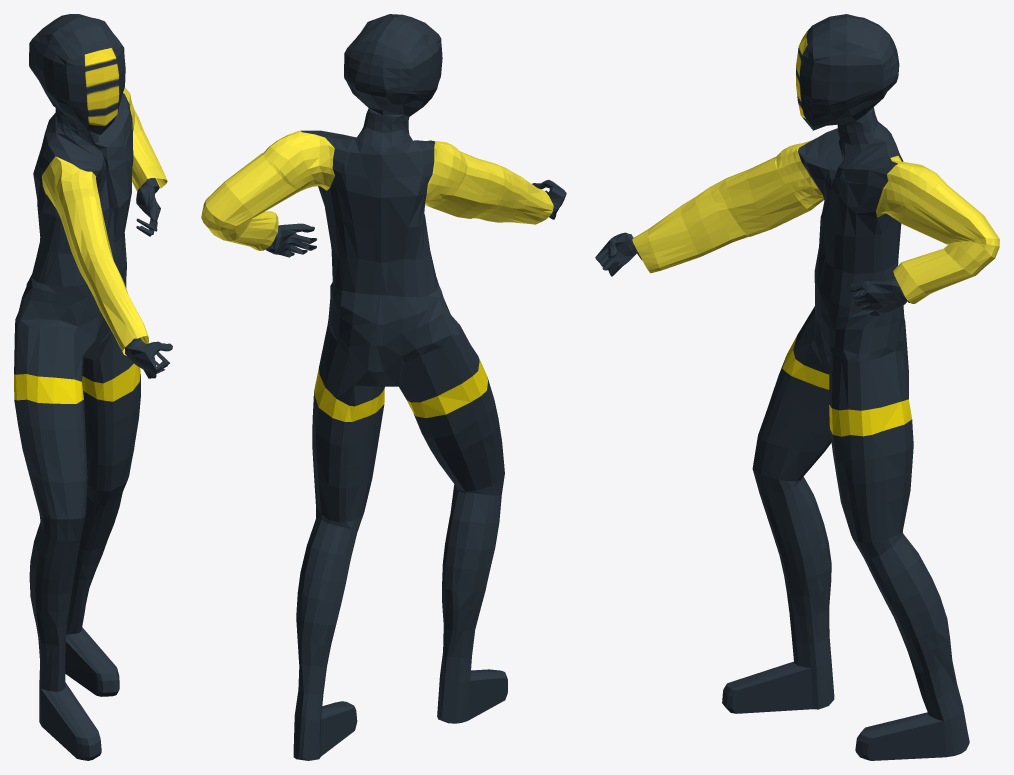
File: Sentry_WB_000012.obj
3 renders of one model, left to right at view 1: azimuth 30°, elevation 25°; view 2: azimuth 150°, elevation 25°; view 3: azimuth 270°, elevation 25°, orthographic. The views are drawn at different scales.
Visible parts, largest first — view 1: Cube; view 2: Cube; view 3: Cube.
Boxes of the visible parts, left/top/right/bottom form: Cube: left=14, top=14, right=172, bottom=760; Cube: left=201, top=14, right=566, bottom=760; Cube: left=595, top=14, right=999, bottom=760.
Bounding box in the file's own units: 1.16 × 3.88 × 1.98.
